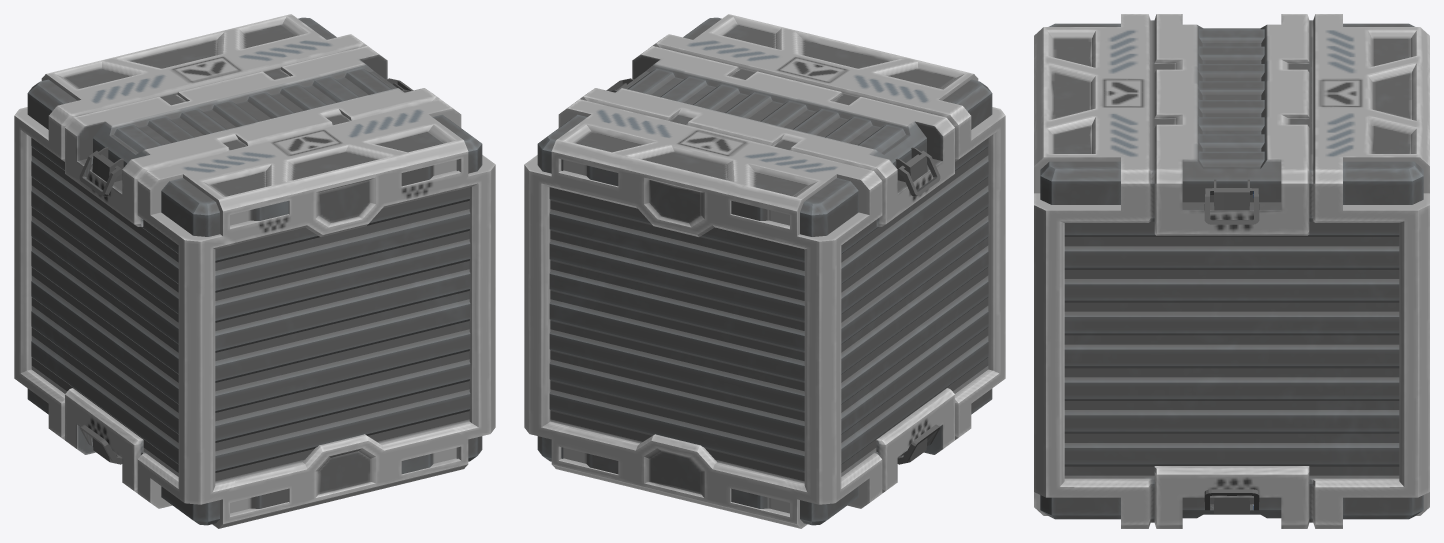
Rendered from Prop_Crate.gltf.
3 views of the same model, side by side, from view 1: azimuth 30°, elevation 25°; view 2: azimuth 150°, elevation 25°; view 3: azimuth 270°, elevation 25° (orthographic). The views are drawn at different scales.
Visible parts, largest first — view 1: Prop_Crate; view 2: Prop_Crate; view 3: Prop_Crate.
Boxes of the visible parts, box(x1,y1,x2,y2) form: Prop_Crate: box(14, 14, 495, 528); Prop_Crate: box(524, 14, 1005, 528); Prop_Crate: box(1034, 14, 1429, 528).
Bounding box in the file's own units: 1.57 × 1.5 × 1.5.
1 material, 1 textured.
